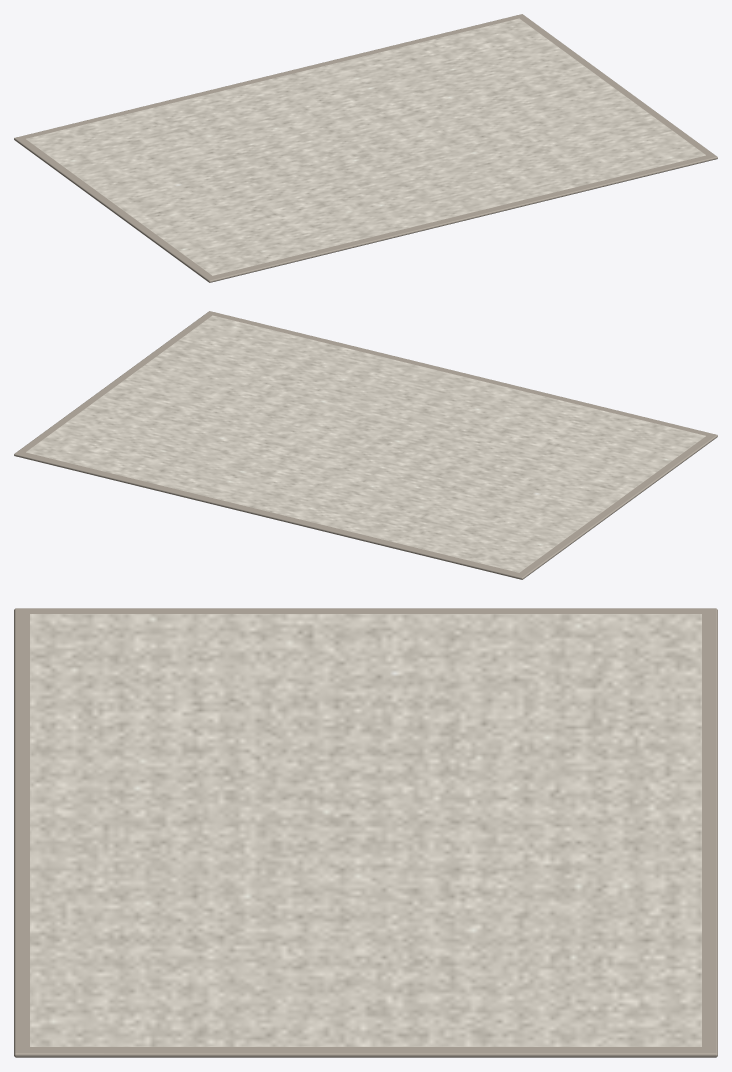
Rendered from obj_area_rug_300x200.glb.
The picture shows the model from 3 angles, top to bottom: view 1: azimuth 30°, elevation 25°; view 2: azimuth 150°, elevation 25°; view 3: azimuth 270°, elevation 25°; orthographic projection. The views are drawn at different scales.
Parts seen in each view (by area): view 1: obj_area_rug_300x200; view 2: obj_area_rug_300x200; view 3: obj_area_rug_300x200.
Boxes of the visible parts, box(x1,y1,x2,y2) form: obj_area_rug_300x200: box(14, 14, 717, 282); obj_area_rug_300x200: box(14, 311, 717, 579); obj_area_rug_300x200: box(14, 608, 717, 1057).
Size of the model in its own units: 3 by 0.0145 by 2.
2 materials, 1 textured.
